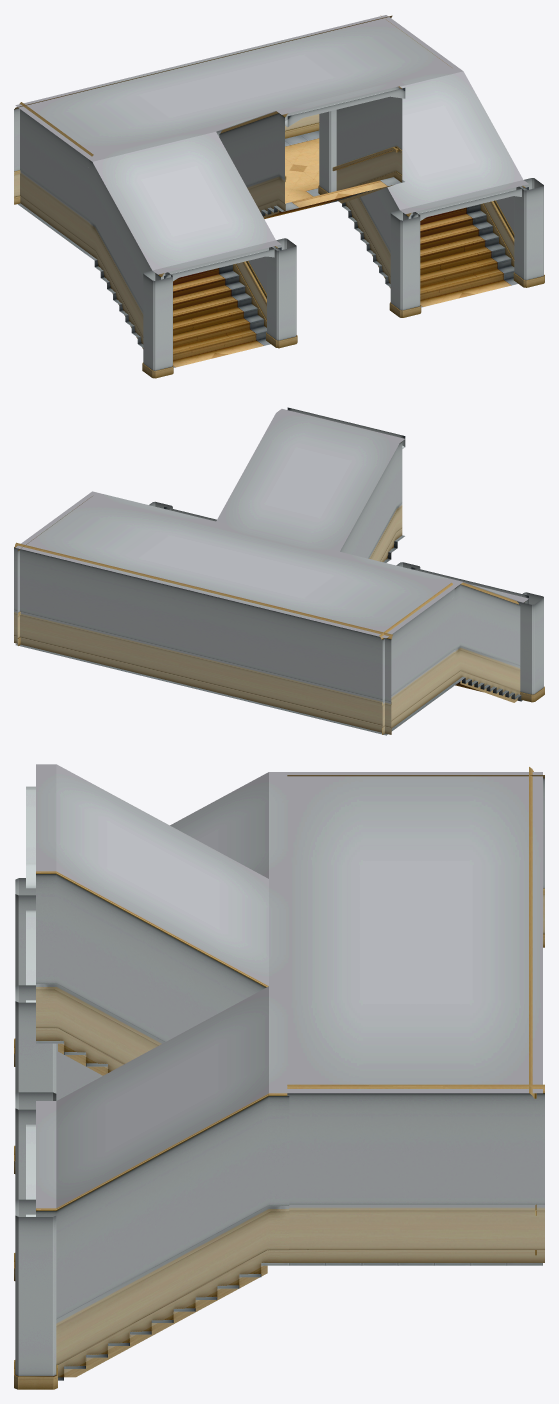
The model's file is Double Stairs (Second Floor) (merge).fbx.
3 renders of one model, top to bottom at view 1: azimuth 30°, elevation 25°; view 2: azimuth 150°, elevation 25°; view 3: azimuth 270°, elevation 25°, orthographic. The views are drawn at different scales.
Parts seen in each view (by area): view 1: Ceiling (×4), Stairs (×3), LeftWall (×3), RightWall (×3), InteriorWall (4), ExteriorColumn (5), ExteriorColumn (3), ExteriorColumn (4), ExteriorColumn (2), Supporter (×2), InteriorWall (2), ExteriorColumn (1) (+3 smaller); view 2: Ceiling (×4), InteriorWall (2), InteriorWall (4), LeftWall, RightWall, ExteriorColumn (3), InteriorFloor (2), Stairs, Supporter (1); view 3: Ceiling (×4), InteriorWall (3), RightWall (×2), LeftWall, ExteriorColumn (2), ExteriorColumn (4), ExteriorColumn (5), Supporter (×2), ExteriorColumn (3), InteriorWall (2), Supporter (1), InteriorWall (4) (+2 smaller).
Boxes of the visible parts, x1,y1,x2,y2 form: Ceiling (×4): (15,15,528,274); Stairs (×3): (87,177,518,367); LeftWall (×3): (89,86,411,348); RightWall (×3): (219,111,525,327); InteriorWall (4): (19,102,93,253); ExteriorColumn (5): (389,210,421,317); ExteriorColumn (3): (142,270,173,378); ExteriorColumn (4): (266,238,297,348); ExteriorColumn (2): (513,178,544,287); Supporter (×2): (158,186,528,281); InteriorWall (2): (14,15,392,204); ExteriorColumn (1): (318,110,336,194); Ceiling (×4): (15,409,528,638); InteriorWall (2): (14,542,392,734); InteriorWall (4): (379,582,454,734); LeftWall: (454,582,526,702); RightWall: (340,441,402,561); ExteriorColumn (3): (517,592,544,702); InteriorFloor (2): (263,682,457,735); Stairs: (455,677,522,701); Supporter (1): (287,407,405,448); Ceiling (×4): (36,764,542,1208); InteriorWall (3): (287,1084,544,1262); RightWall (×2): (36,1043,289,1377); LeftWall: (36,871,268,1075); ExteriorColumn (2): (14,1199,57,1389); ExteriorColumn (4): (14,985,56,1173); ExteriorColumn (5): (14,1092,56,1280); Supporter (×2): (26,910,35,1216); ExteriorColumn (3): (14,878,35,1066); InteriorWall (2): (529,767,536,1255); Supporter (1): (26,786,35,888); InteriorWall (4): (287,775,544,947).
Bounding box in the file's own units: 12.69 × 7 × 8.38.
Materials: 8 (8 with a texture image).
